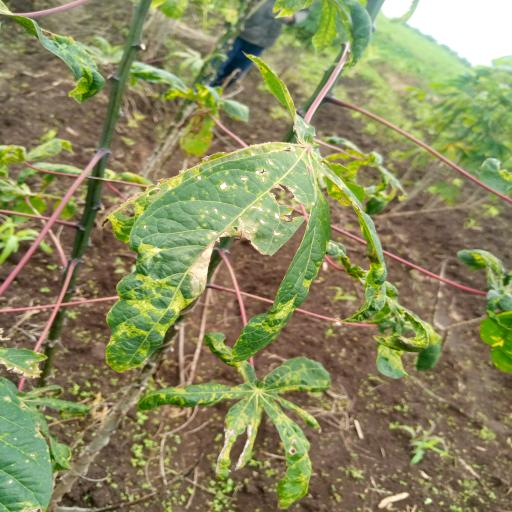Cassava_Mosaic: (82, 138, 394, 376), (144, 343, 334, 504)
